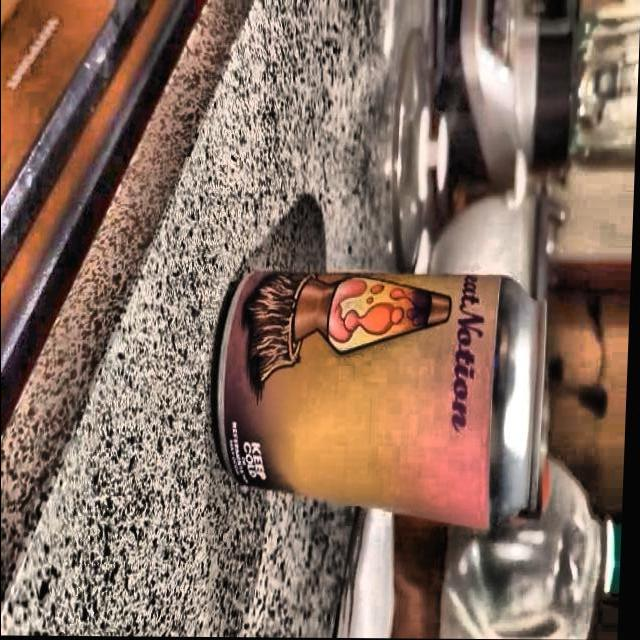litter: (212, 268, 560, 534)
